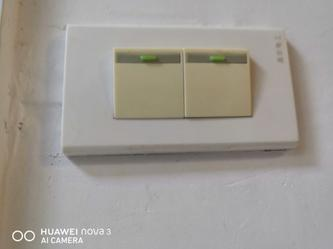switch: (111, 44, 182, 119), (184, 44, 253, 118)
